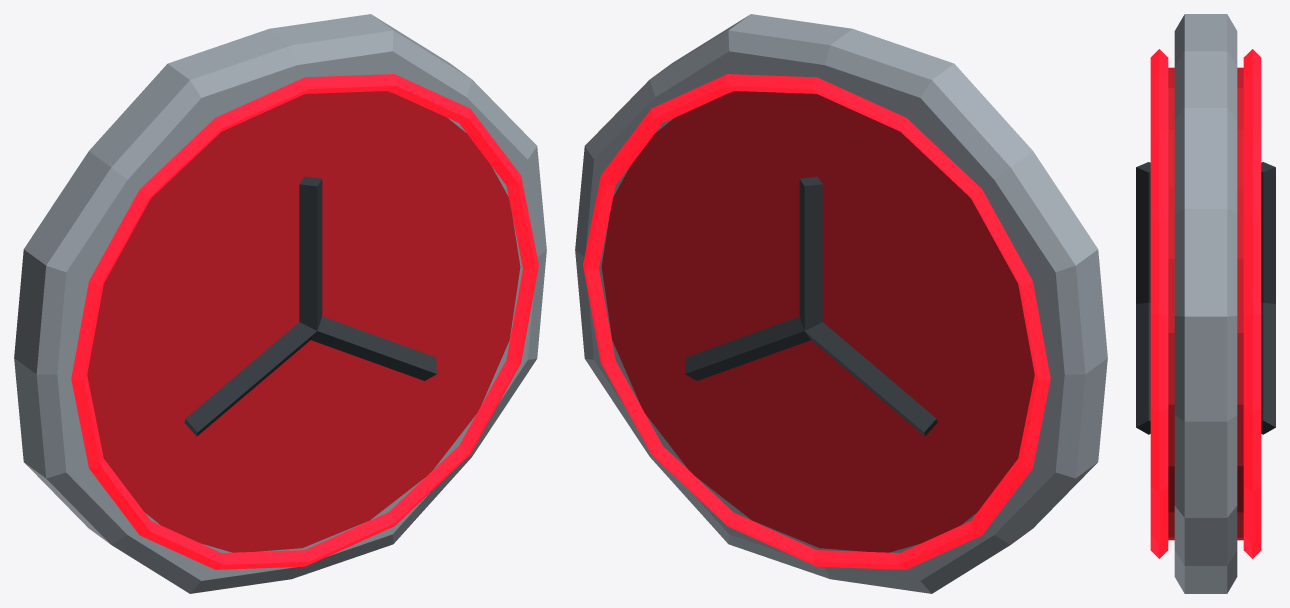
Rendered from points-10-lod0.glb.
The picture shows the model from 3 angles, left to right: view 1: azimuth 30°, elevation 25°; view 2: azimuth 150°, elevation 25°; view 3: azimuth 270°, elevation 25°; orthographic projection. The views are drawn at different scales.
Parts seen in each view (by area): view 1: red enamel face, chamfered gear rim, red luminous inset, neutral three spoke glyph, neutral three spoke glyph.001, neutral three spoke glyph.002; view 2: red enamel face.001, chamfered gear rim, red luminous inset.001, neutral three spoke glyph.003, neutral three spoke glyph.004, neutral three spoke glyph.005; view 3: chamfered gear rim, red luminous inset, red luminous inset.001, red enamel face, red enamel face.001, neutral three spoke glyph, neutral three spoke glyph.003, neutral three spoke glyph.002, neutral three spoke glyph.005.
Part boxes in pixels (box(x1,y1,x2,y2)): red enamel face: box(87, 91, 520, 552); chamfered gear rim: box(14, 14, 546, 593); red luminous inset: box(71, 74, 538, 569); neutral three spoke glyph: box(299, 176, 322, 330); neutral three spoke glyph.001: box(184, 322, 316, 436); neutral three spoke glyph.002: box(311, 316, 436, 380); red enamel face.001: box(601, 91, 1034, 552); chamfered gear rim: box(575, 14, 1107, 593); red luminous inset.001: box(583, 74, 1050, 569); neutral three spoke glyph.003: box(799, 176, 822, 330); neutral three spoke glyph.004: box(805, 322, 937, 436); neutral three spoke glyph.005: box(685, 316, 810, 380); chamfered gear rim: box(1174, 14, 1237, 593); red luminous inset: box(1150, 49, 1168, 558); red luminous inset.001: box(1243, 49, 1261, 558); red enamel face: box(1168, 67, 1174, 540); red enamel face.001: box(1237, 67, 1243, 540); neutral three spoke glyph: box(1136, 162, 1150, 303); neutral three spoke glyph.003: box(1261, 162, 1275, 303); neutral three spoke glyph.002: box(1136, 302, 1150, 434); neutral three spoke glyph.005: box(1261, 302, 1275, 434).
Bounding box in the file's own units: 0.576 × 0.576 × 0.1444.
